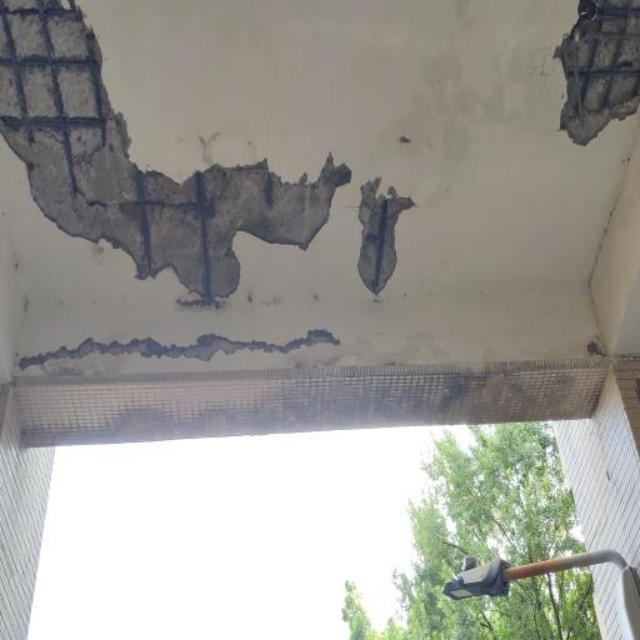D0w0: (2, 0, 349, 305), (558, 2, 639, 149), (30, 330, 338, 365), (358, 182, 417, 297)
